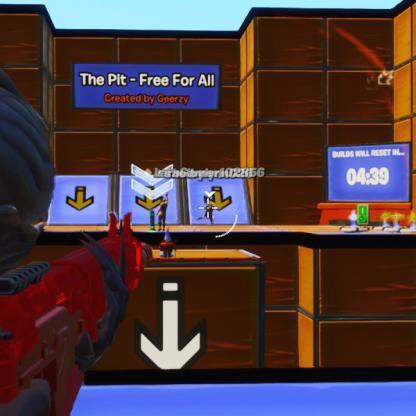person: (156, 196, 168, 228), (204, 202, 214, 227)
